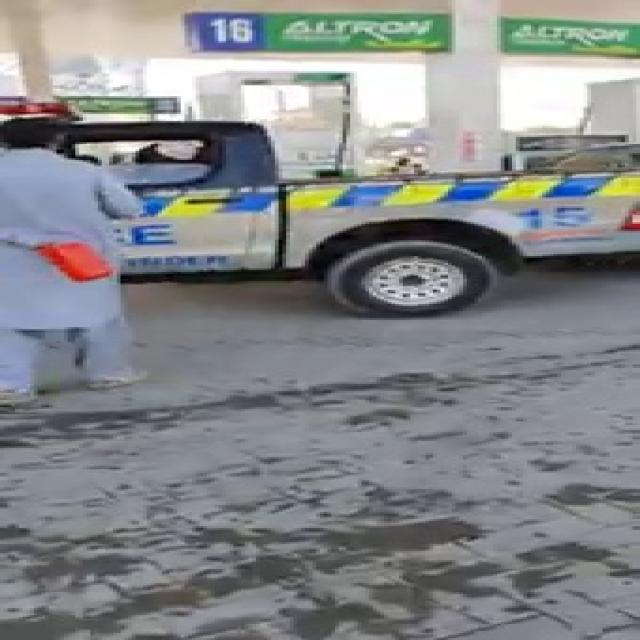police: (0, 105, 617, 295)
